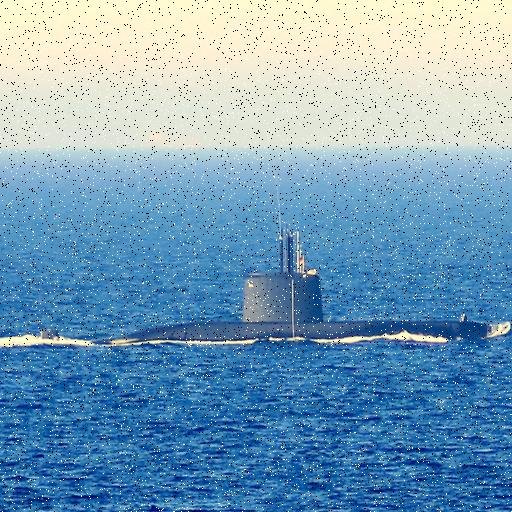submarine: (15, 228, 498, 336)
